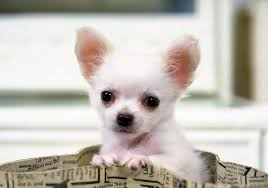chihuahua: (54, 16, 226, 179)
